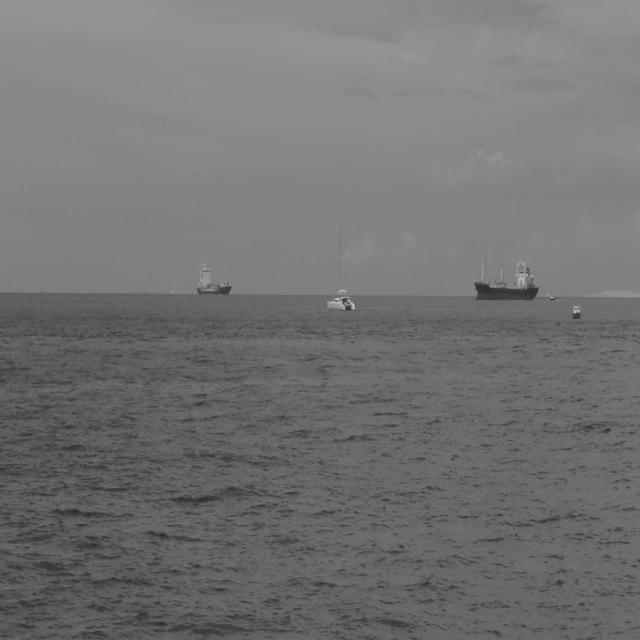boat: (326, 221, 356, 312)
ship: (472, 250, 541, 302), (195, 260, 233, 298), (570, 303, 582, 321), (549, 293, 559, 301)
